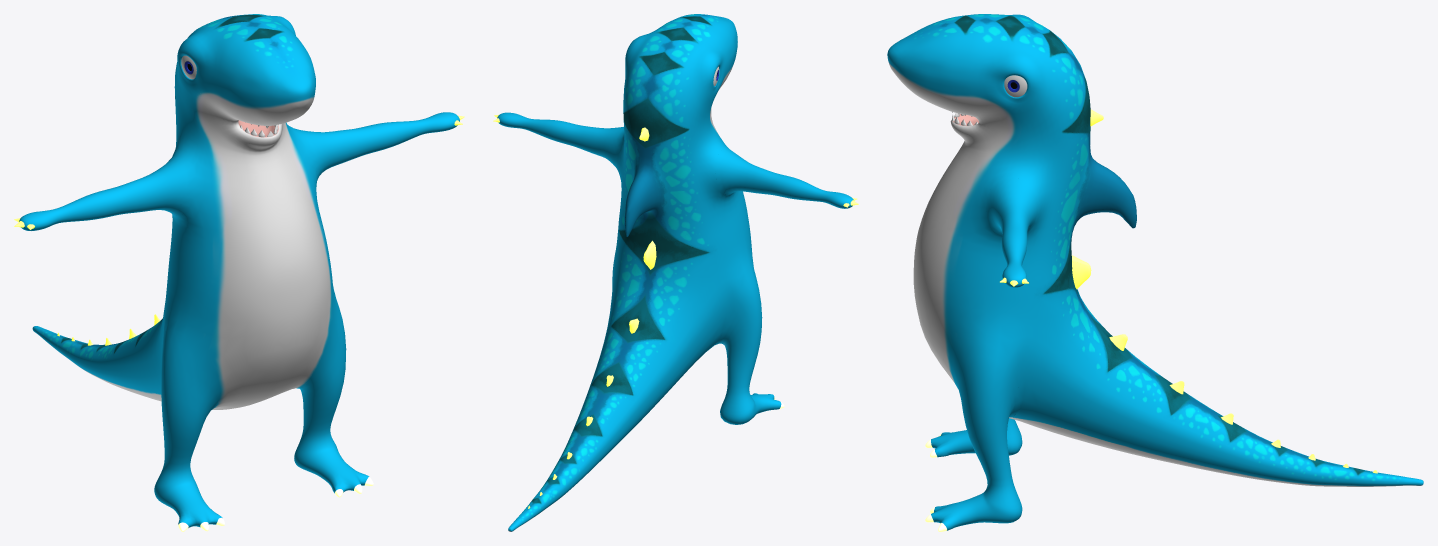
Rendered from DinoSharkBoy_Character_Reference.png.gltf.
3 renders of one model, left to right at view 1: azimuth 30°, elevation 25°; view 2: azimuth 150°, elevation 25°; view 3: azimuth 270°, elevation 25°, orthographic. The views are drawn at different scales.
Visible parts, largest first — view 1: Body; view 2: Body; view 3: Body.
Boxes of the visible parts, x1,y1,x2,y2 form: Body: [19, 14, 459, 531]; Body: [497, 14, 853, 531]; Body: [887, 14, 1423, 531].
Size of the model in its own units: 1.81 by 1.81 by 1.88.
7 materials, 7 textured.
